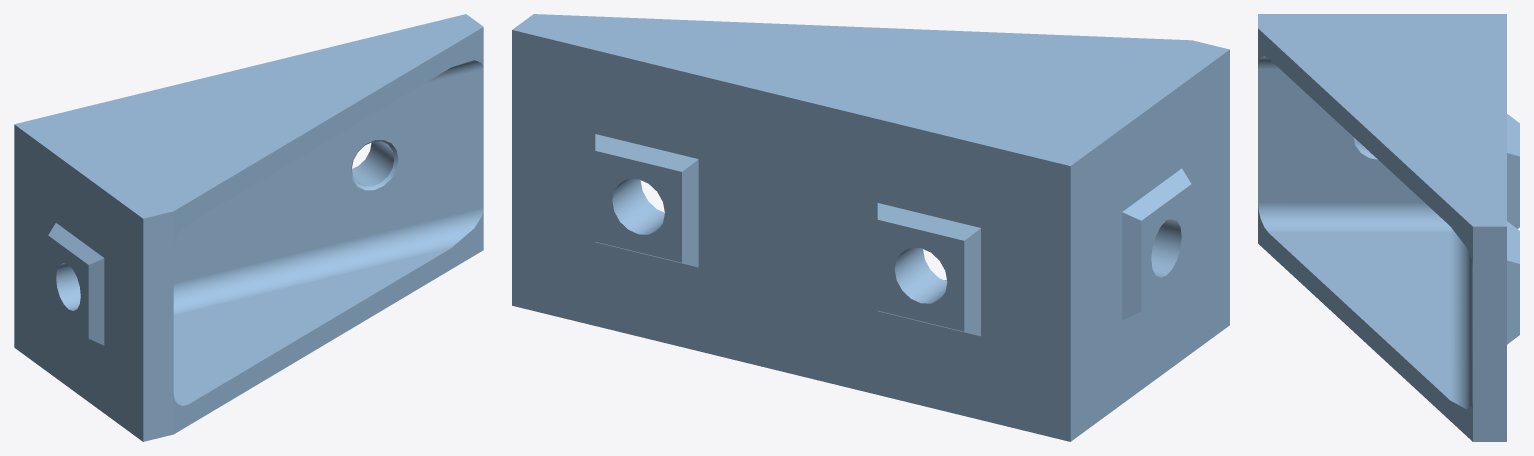
3 renders of one model, left to right at view 1: azimuth 30°, elevation 25°; view 2: azimuth 150°, elevation 25°; view 3: azimuth 270°, elevation 25°, orthographic. The views are drawn at different scales.
Visible parts, largest first — view 1: mesh13612, mesh13627, mesh13610, mesh13616, mesh13618, mesh13623, mesh13615, mesh13611, mesh13605, mesh13608, mesh13629, mesh13603 (+2 smaller); view 2: mesh13637, mesh13612, mesh13610, mesh13638, mesh13632, mesh13605, mesh13606, mesh13631, mesh13629, mesh13634, mesh13640, mesh13639 (+3 smaller); view 3: mesh13612, mesh13616, mesh13620, mesh13614, mesh13617, mesh13615, mesh13623, mesh13618, mesh13636, mesh13642, mesh13633, mesh13639.
Boxes of the visible parts, x1,y1,x2,y2 form: mesh13612: (14, 14, 483, 218); mesh13627: (173, 69, 483, 282); mesh13610: (14, 124, 143, 441); mesh13616: (173, 248, 450, 404); mesh13618: (173, 207, 483, 315); mesh13623: (173, 27, 483, 251); mesh13615: (173, 211, 483, 433); mesh13611: (143, 211, 173, 441); mesh13605: (48, 236, 88, 338); mesh13608: (88, 258, 104, 345); mesh13629: (352, 141, 394, 186); mesh13603: (56, 263, 80, 310); mesh13637: (512, 30, 1070, 441); mesh13612: (512, 14, 1229, 165); mesh13610: (1070, 49, 1229, 441); mesh13638: (877, 220, 964, 331); mesh13632: (595, 151, 681, 262); mesh13605: (1141, 184, 1191, 311); mesh13606: (1122, 212, 1141, 320); mesh13631: (894, 247, 947, 303); mesh13629: (612, 179, 664, 234); mesh13634: (682, 159, 698, 267); mesh13640: (964, 228, 980, 336); mesh13639: (877, 203, 980, 240); mesh13612: (1258, 14, 1506, 226); mesh13616: (1269, 232, 1450, 399); mesh13620: (1258, 69, 1424, 202); mesh13614: (1473, 226, 1506, 441); mesh13617: (1258, 202, 1450, 232); mesh13615: (1258, 205, 1472, 441); mesh13623: (1258, 28, 1472, 264); mesh13618: (1450, 232, 1472, 409); mesh13636: (1507, 260, 1519, 344); mesh13642: (1507, 153, 1519, 228); mesh13633: (1507, 221, 1519, 263); mesh13639: (1507, 114, 1519, 156).
Bounding box in the file's own units: 0.0913 × 0.042 × 0.0463.
